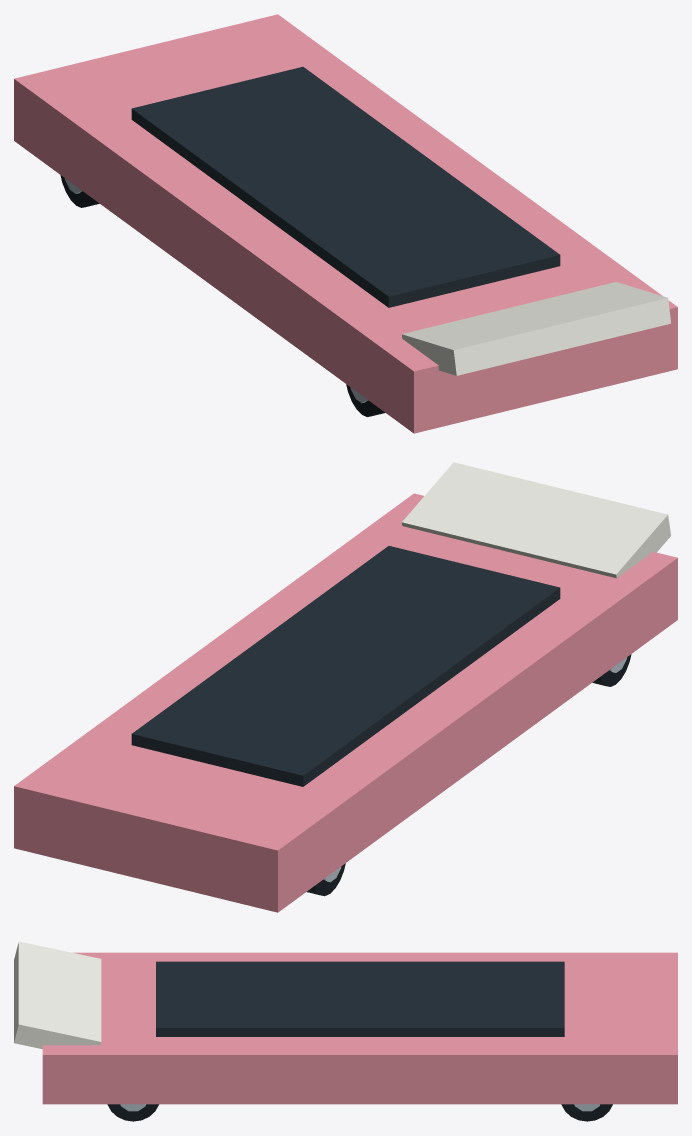
Rendered from slide.glb.
The picture shows the model from 3 angles, top to bottom: view 1: azimuth 30°, elevation 25°; view 2: azimuth 150°, elevation 25°; view 3: azimuth 270°, elevation 25°; orthographic projection. The views are drawn at different scales.
Visible parts, largest first — view 1: slide; view 2: slide; view 3: slide, wheel.3.spin, wheel.2.spin.
Part boxes in pixels (x1,y1,x2,y2): slide: (14, 14, 677, 433); slide: (14, 462, 677, 912); slide: (14, 941, 677, 1104); wheel.3.spin: (107, 1104, 158, 1121); wheel.2.spin: (561, 1104, 612, 1121).
Size of the model in its own units: 0.8 by 0.326 by 2.19.
